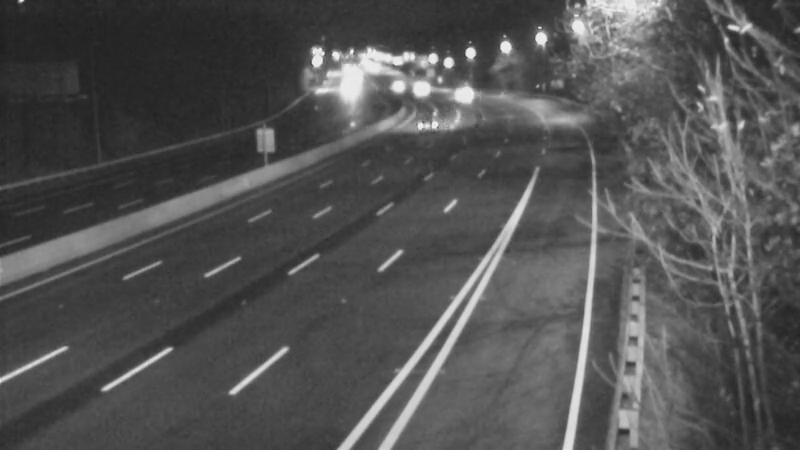vehicle: (367, 59, 417, 109), (393, 67, 443, 117), (439, 69, 489, 119), (403, 97, 453, 147), (326, 66, 376, 116)
